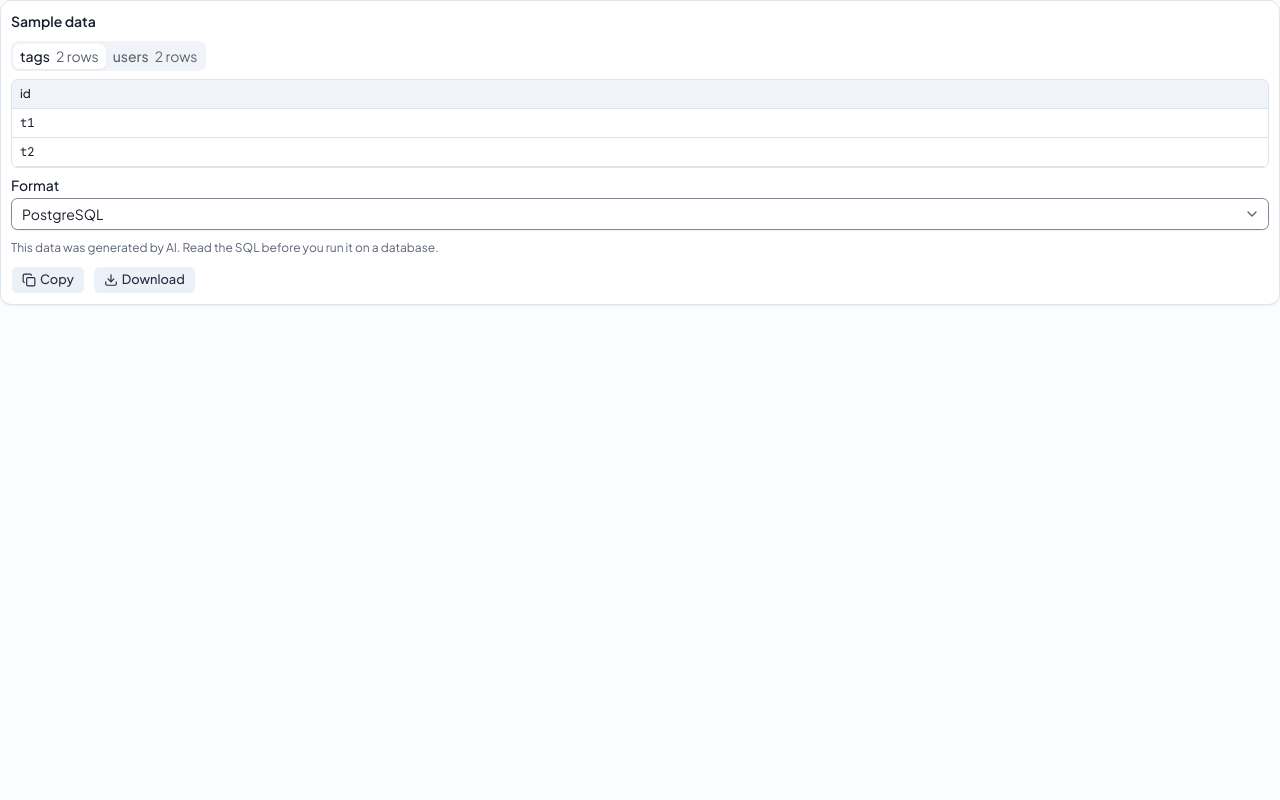
Test: AiSampleDataCard › shows an error toast when the clipboard is denied
expect the tab "users 2 rows" is shown: met, box [106,44,204,68]
Click the button "Copy" at (48, 280), box [11,266,85,294]
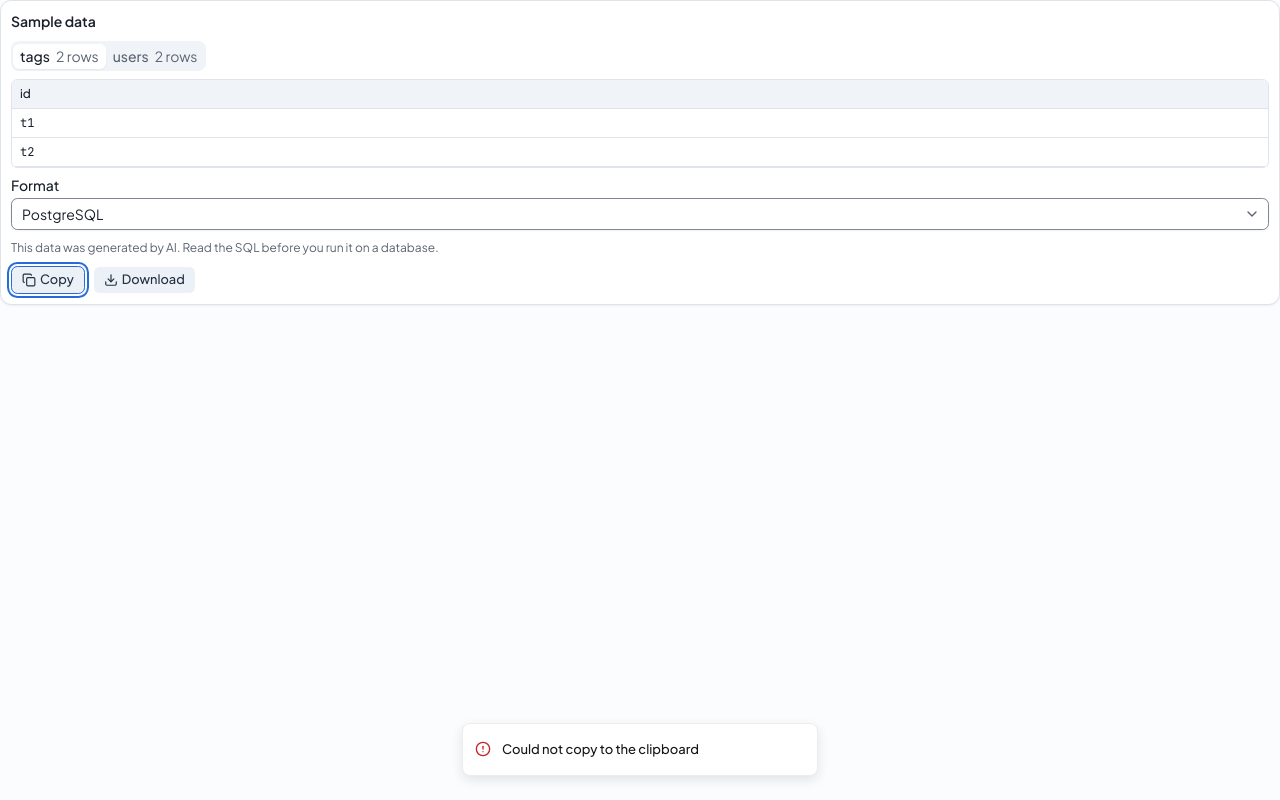
expect the text "Could not copy to the clipboard" is shown: met, box [502,740,699,759]
